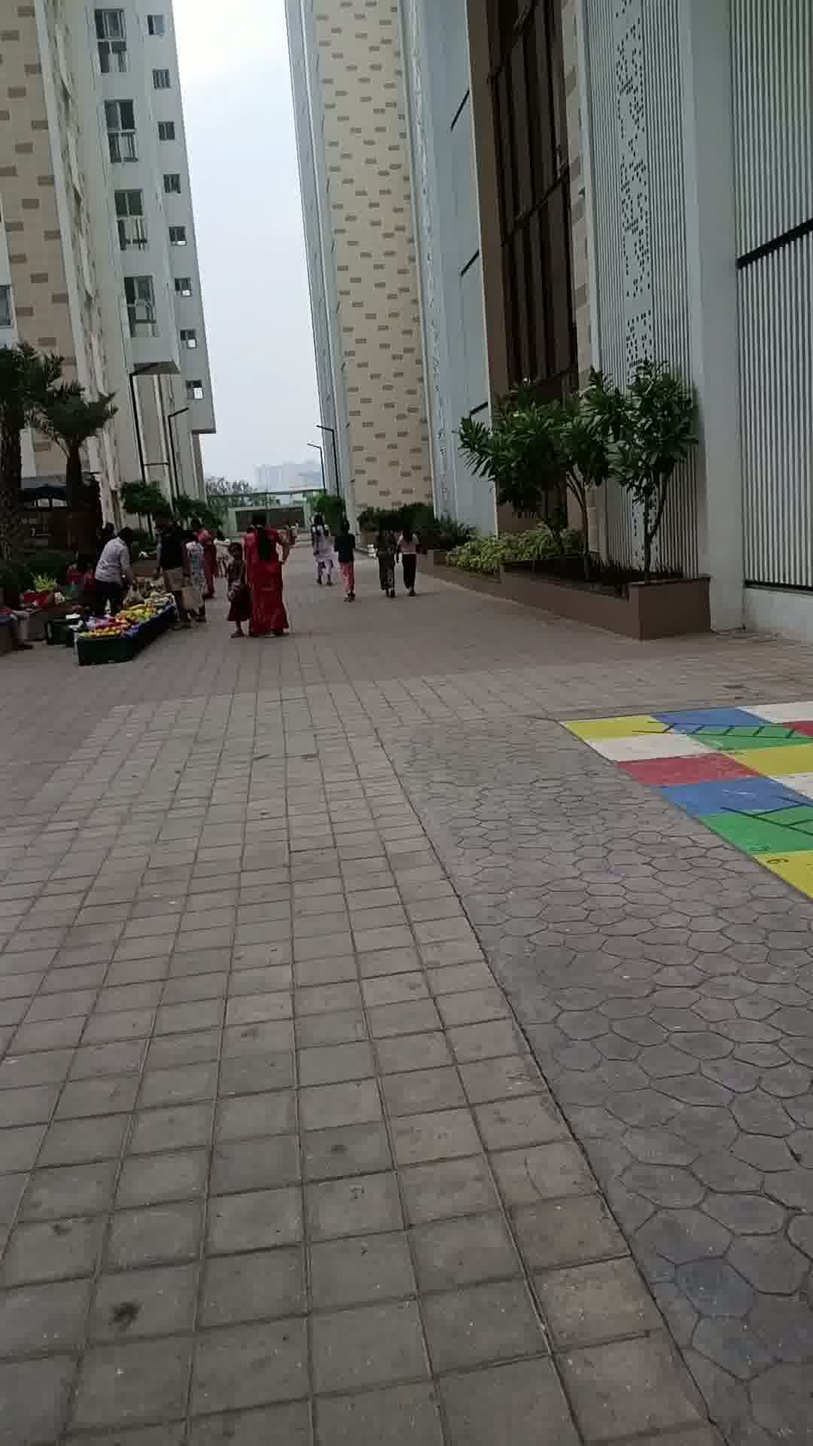person: (241, 500, 303, 638), (148, 496, 193, 643), (83, 516, 140, 618), (330, 499, 368, 605), (190, 508, 227, 600), (224, 535, 251, 647), (307, 505, 336, 595), (372, 510, 399, 600), (398, 512, 418, 610)
tree: (578, 342, 706, 598), (452, 367, 592, 592), (0, 319, 60, 595), (37, 364, 105, 566)
